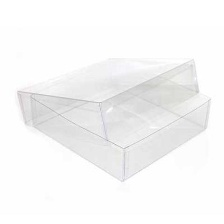plastic_box: (11, 47, 217, 186)
